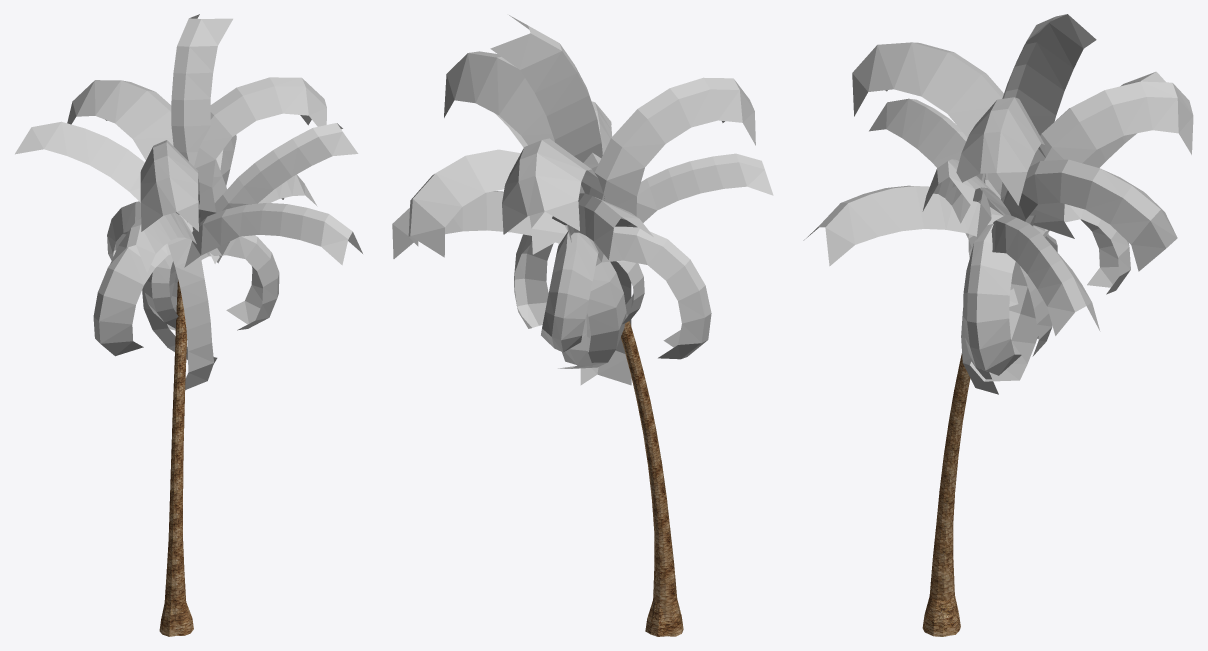
File: palm_001.dae
3 renders of one model, left to right at view 1: azimuth 30°, elevation 25°; view 2: azimuth 150°, elevation 25°; view 3: azimuth 270°, elevation 25°, orthographic. The views are drawn at different scales.
Visible parts, largest first — view 1: Mesh_Object_2, Mesh_Object; view 2: Mesh_Object_2, Mesh_Object; view 3: Mesh_Object_2, Mesh_Object.
Part boxes in pixels (x1,y1,x2,y2): Mesh_Object_2: [15, 14, 362, 389]; Mesh_Object: [159, 279, 193, 636]; Mesh_Object_2: [392, 15, 773, 385]; Mesh_Object: [621, 321, 683, 636]; Mesh_Object_2: [803, 14, 1193, 394]; Mesh_Object: [922, 353, 970, 636].
Bounding box in the file's own units: 229 × 449 × 243.
